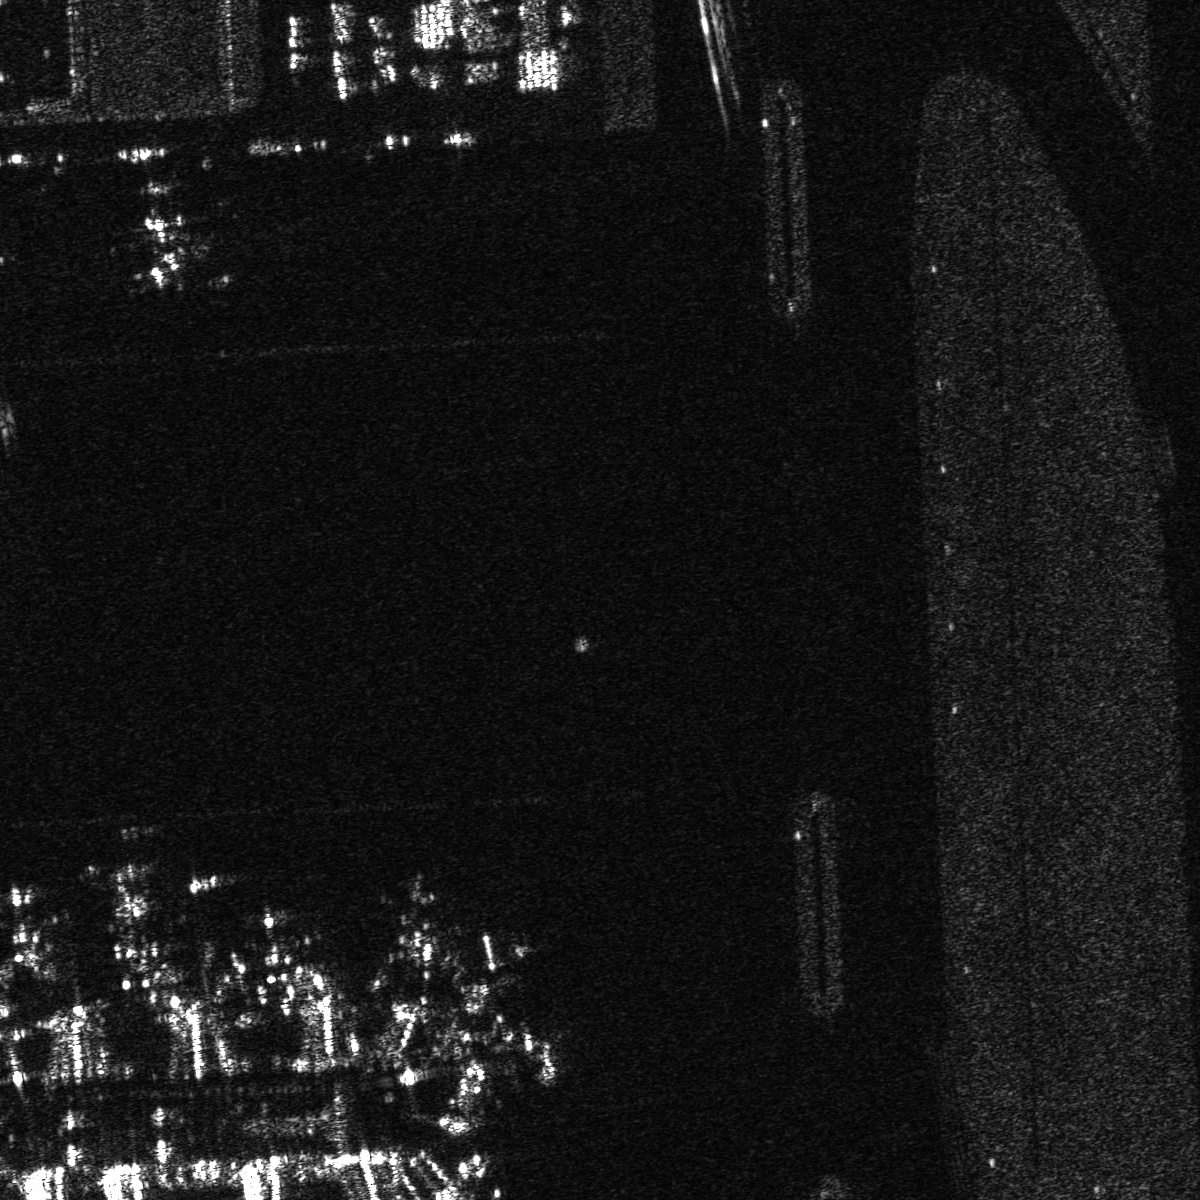A320/321: (104, 860, 180, 975), (381, 869, 451, 976), (245, 904, 308, 990)
other: (120, 207, 215, 297), (1, 882, 58, 984)
